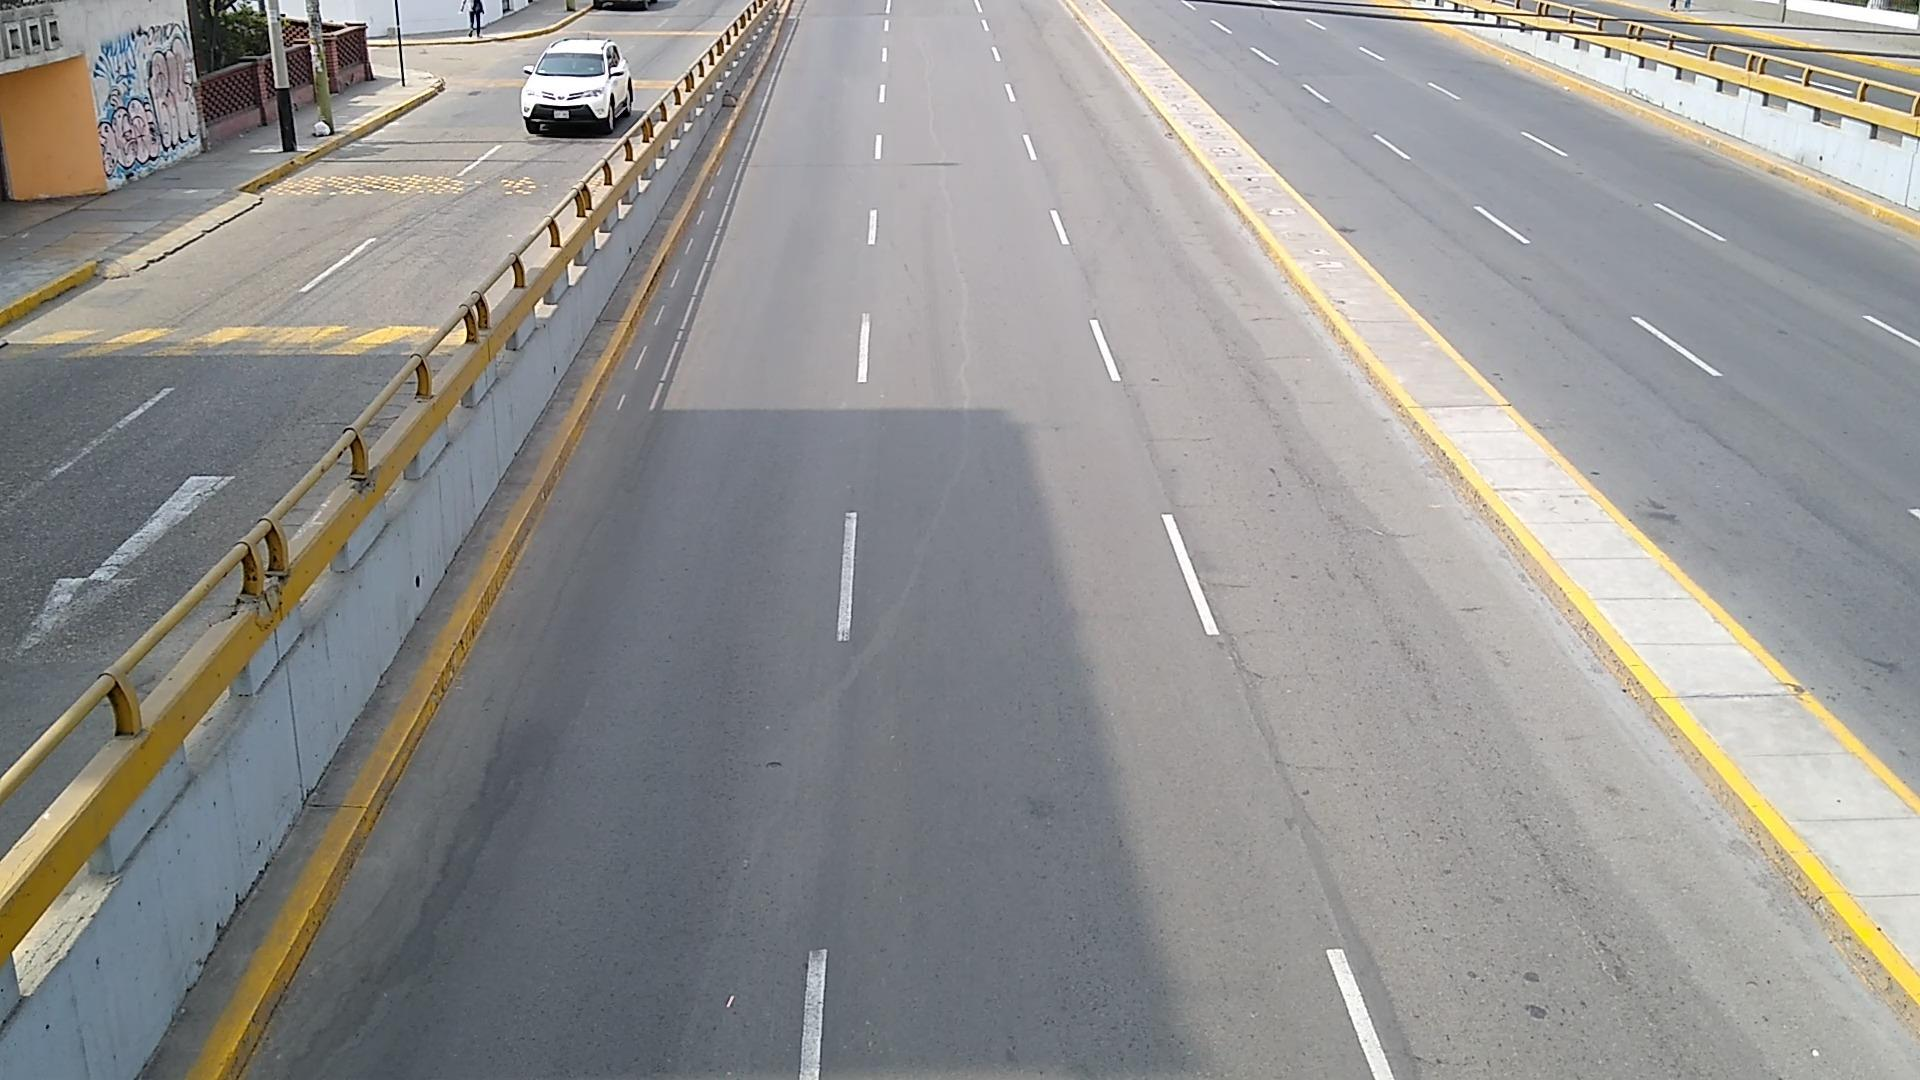car: (521, 37, 634, 132)
